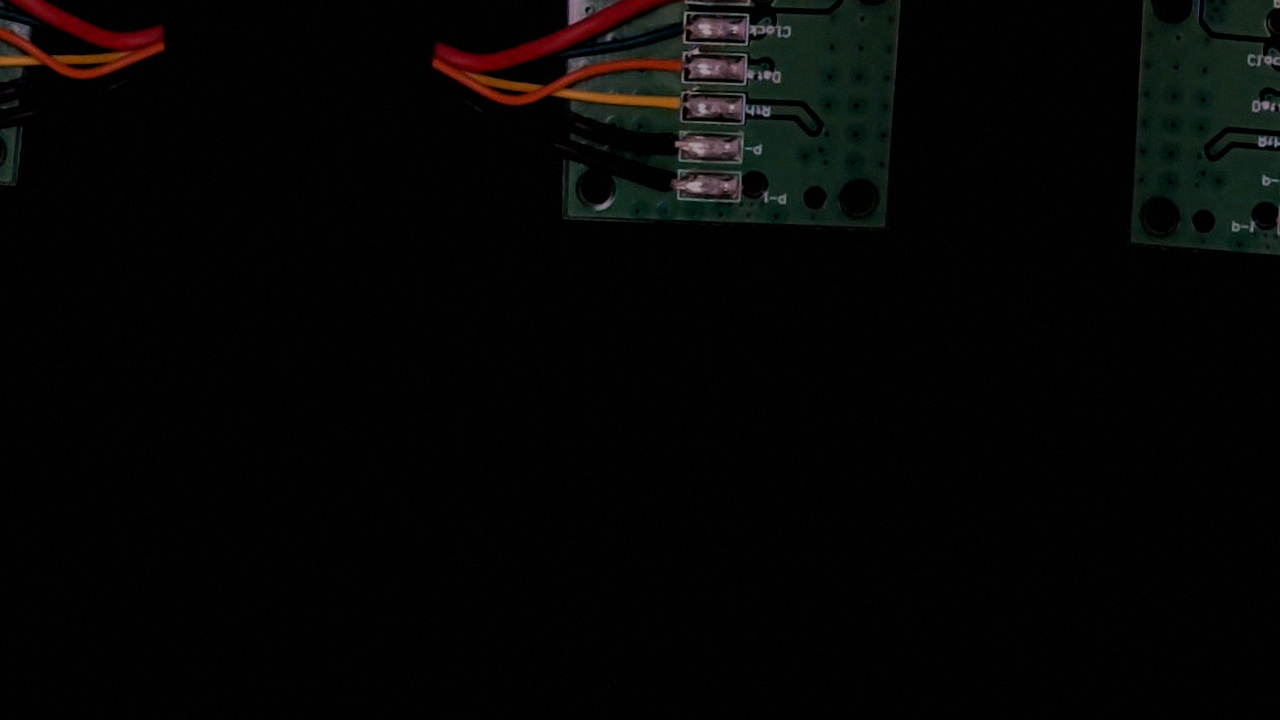Black: (626, 126, 701, 164)
Black1: (631, 168, 699, 205)
Green: (635, 8, 707, 46)
Orange: (631, 48, 705, 84)
Red: (637, 0, 709, 5)
Yellow: (626, 87, 702, 125)
